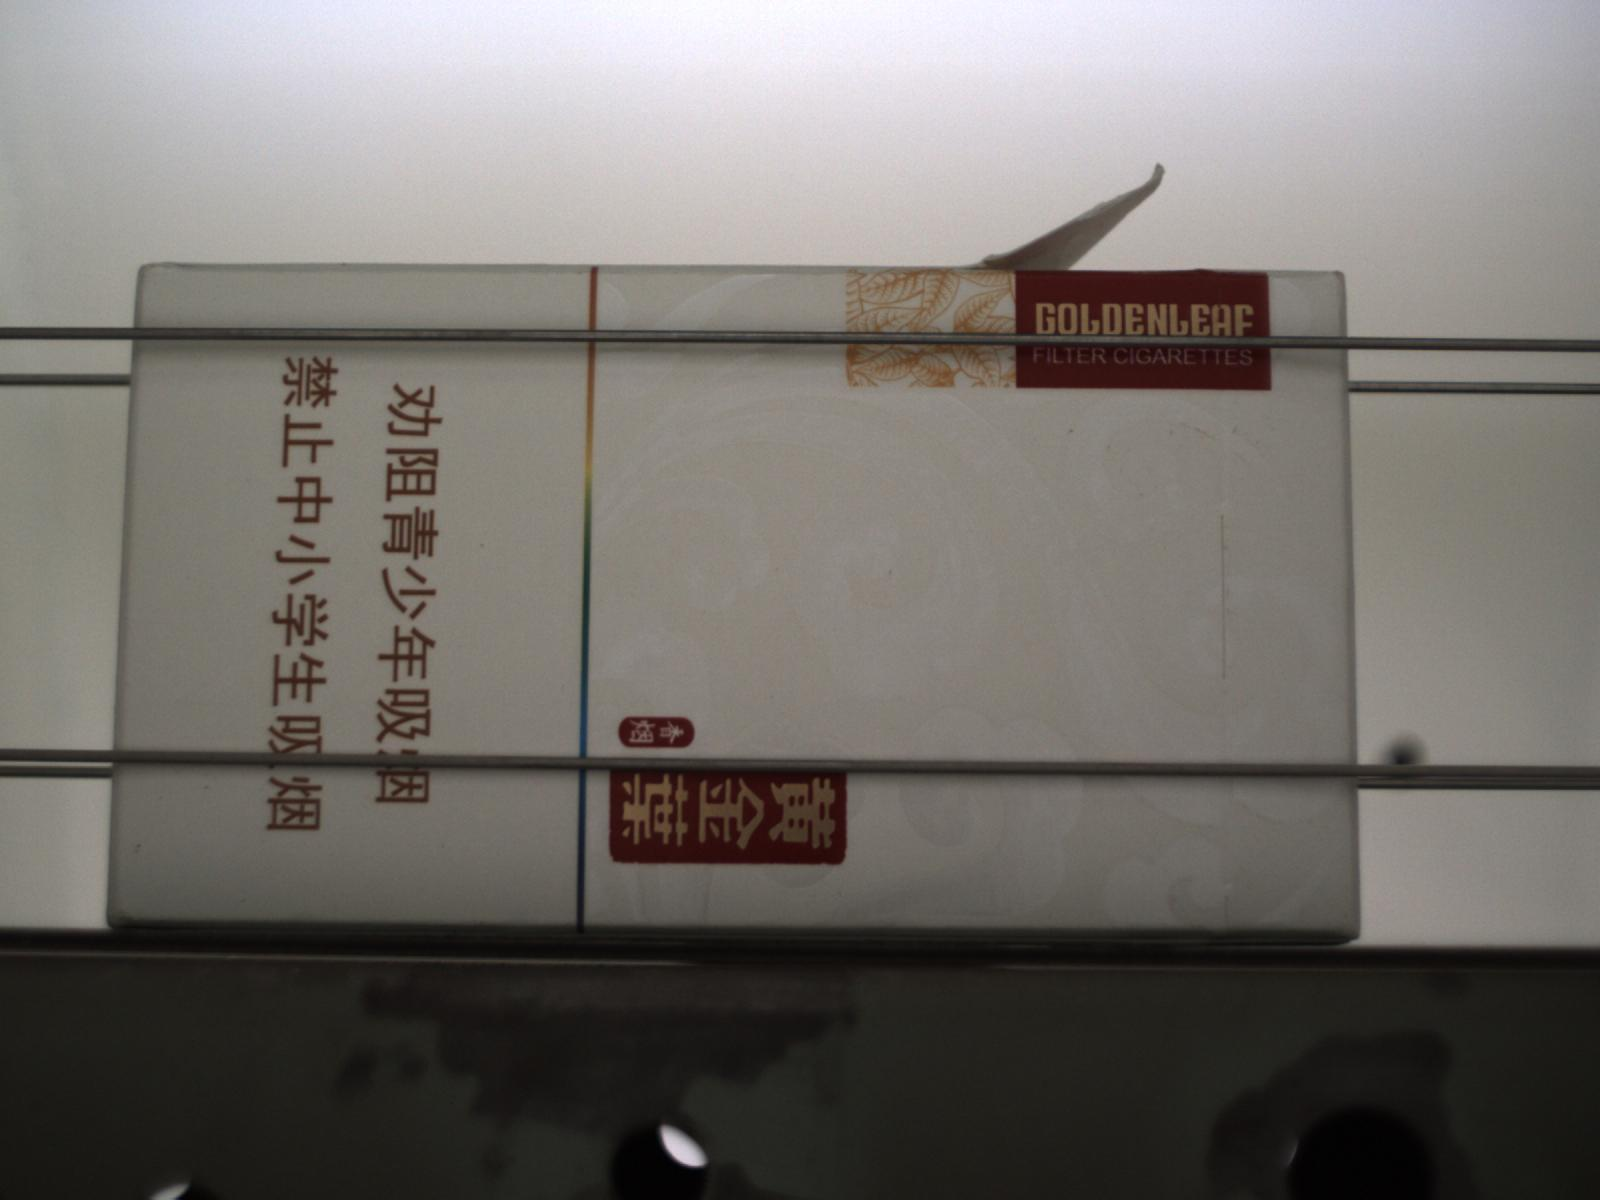dirtySpot: (1066, 426, 1077, 436), (477, 541, 488, 550), (134, 842, 144, 850)
outerFold_upper_01: (973, 163, 1168, 271)
